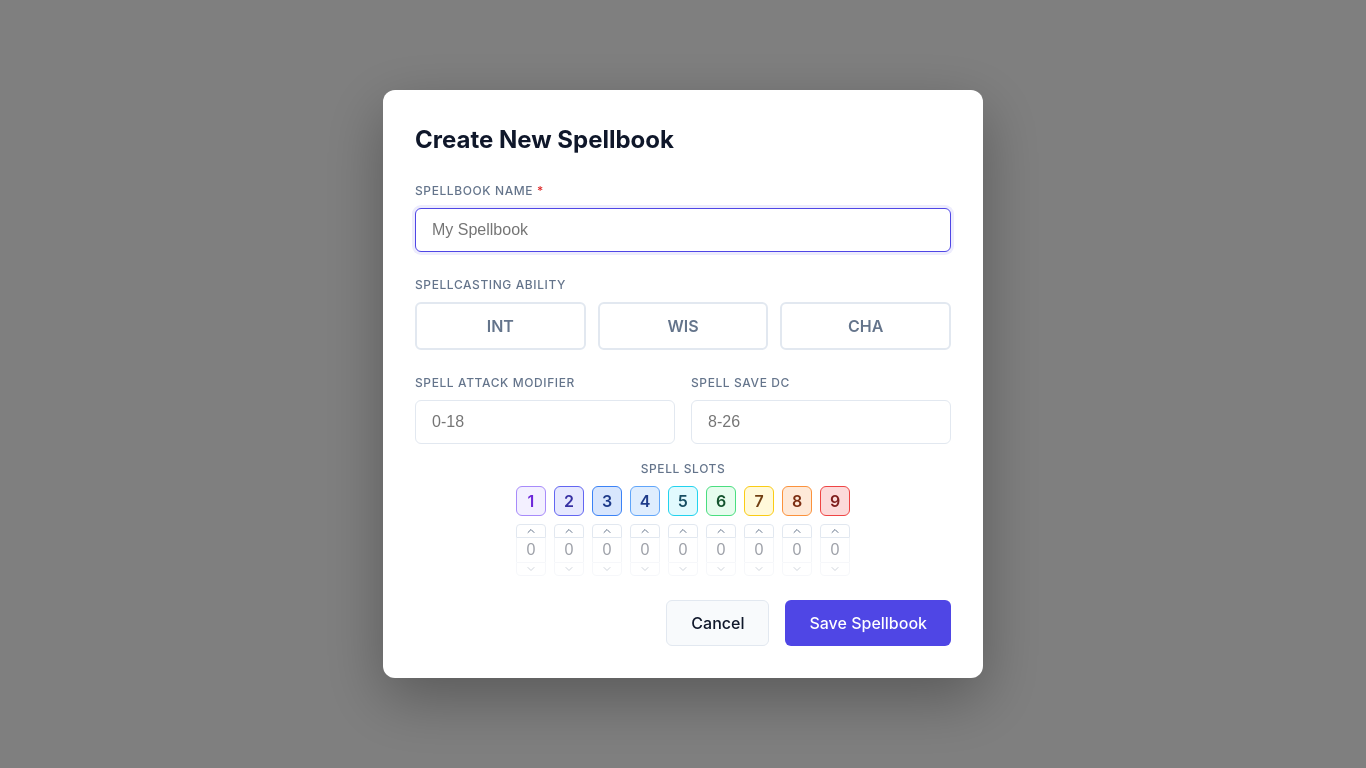
Test case: CreateSpellbookModal › should validate empty name
What coordinates should you click on to do the following:
click the button with test id "create-button"
I would click on:
 (868, 623)
Its box is [785,600,951,646].
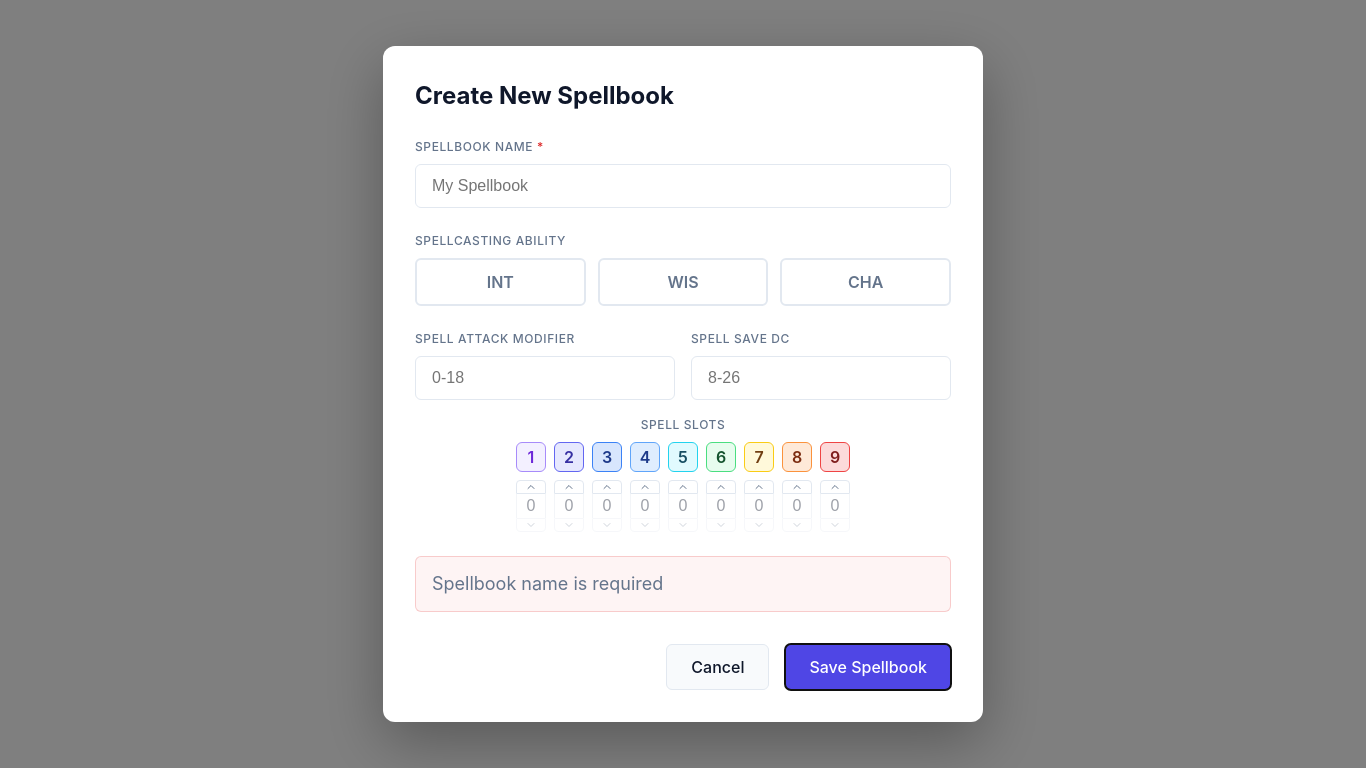
Now the text "Spellbook name is required" is shown, box [415,556,951,612]
